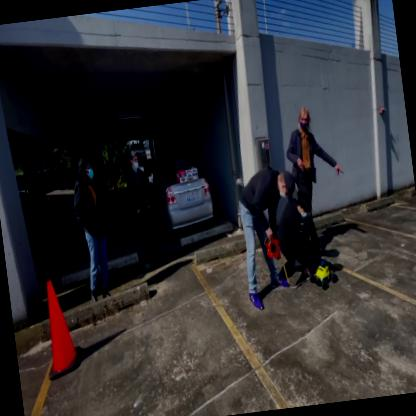cone: (36, 278, 85, 382)
mushr_car: (305, 250, 341, 294)
